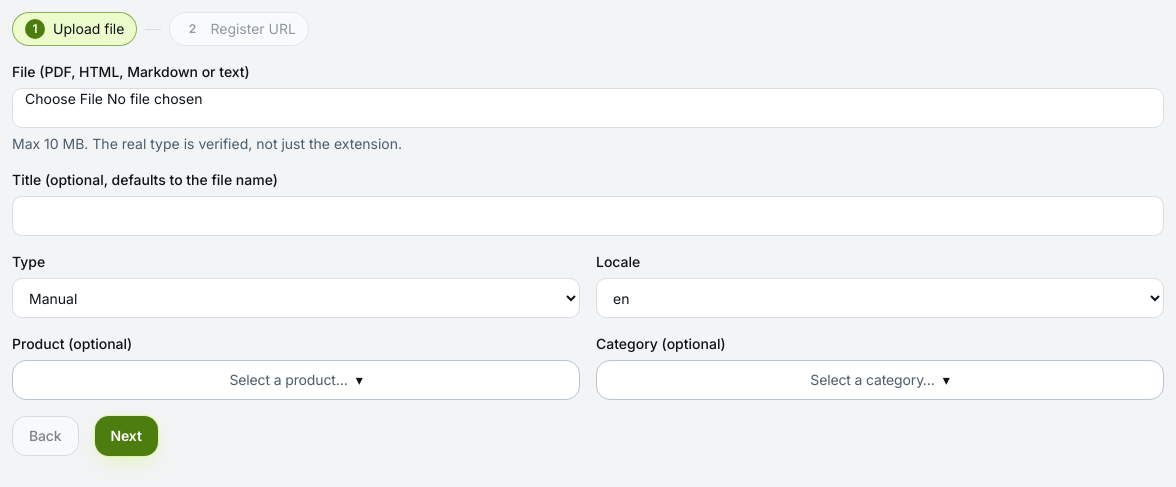
Test: DocumentUploadWizard › announces the attached file on the URL step
Click the button "Next" at (126, 436), box [94,416,158,456]
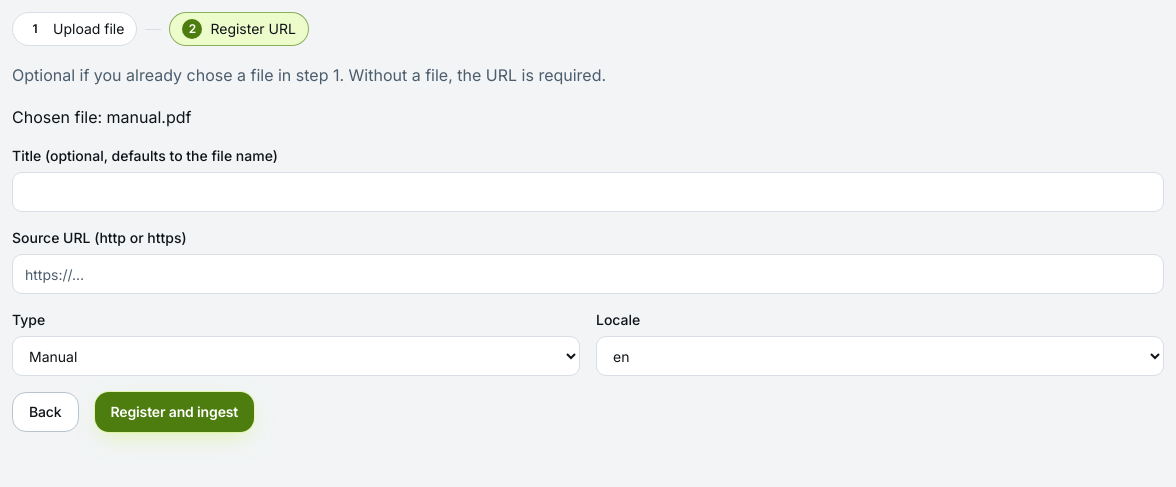
Check: the message shows "manual.pdf", box [12,107,192,127]
